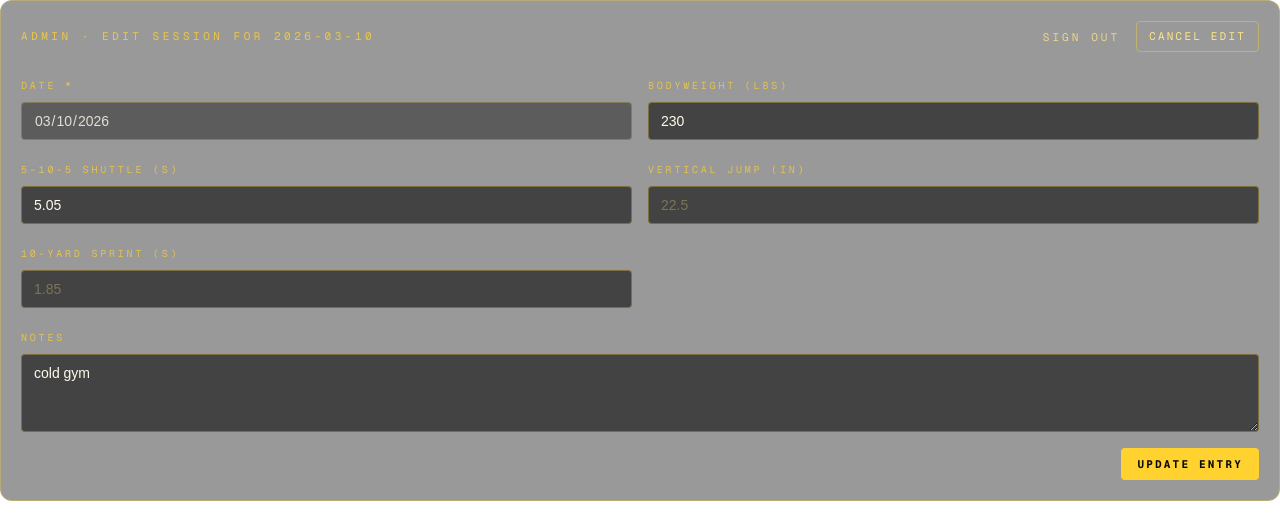
CombineEntryForm — edit mode (PRD §7.11) › surfaces server errors from updateBenchmark without exiting edit mode
Click the button "Update entry" at (1190, 464), box [1121, 448, 1259, 480]
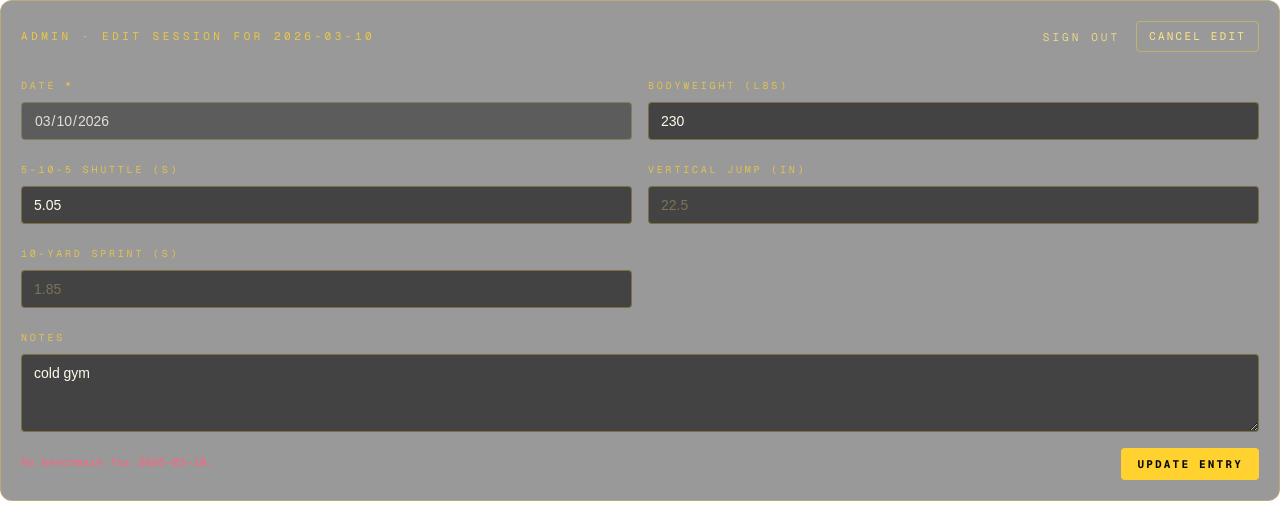
expect the text "No benchmark for 2026-03-10." is shown: met, box [21, 455, 214, 469]
